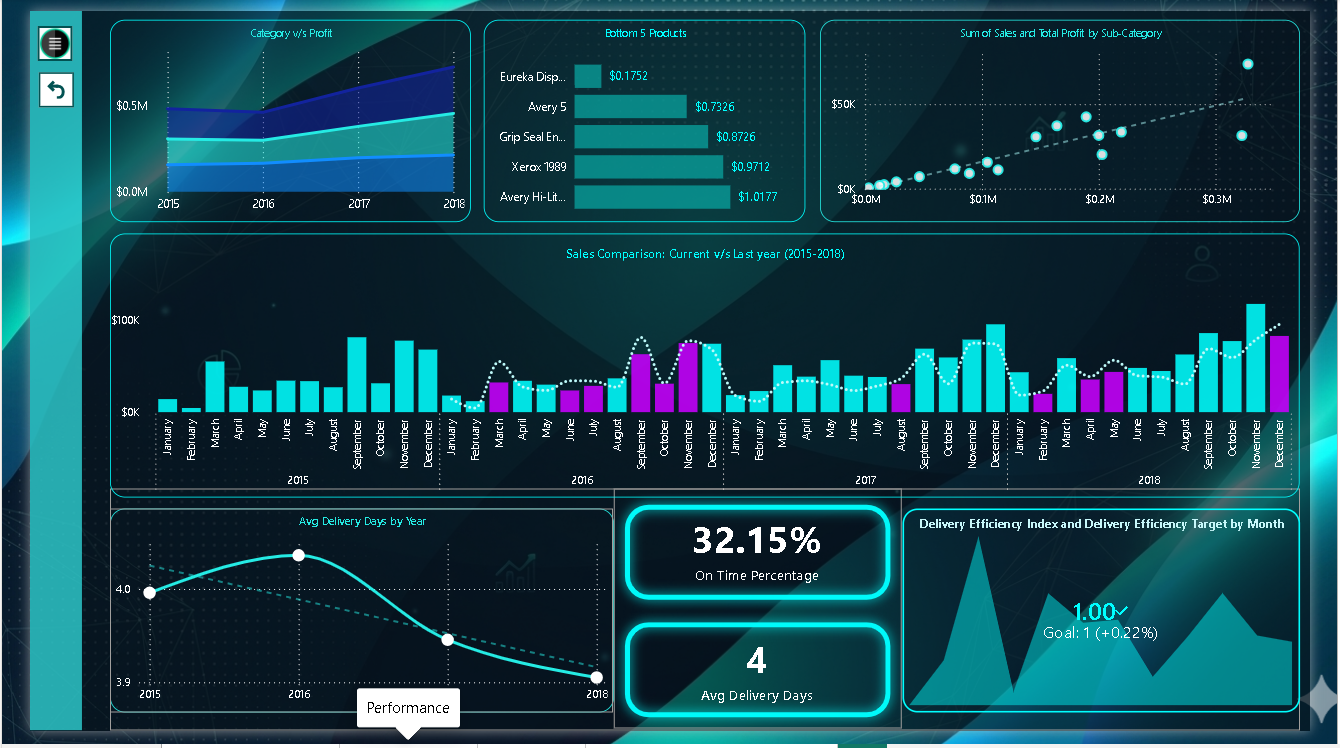

The page's visual inventory and layout, read from the dashboard file:
{"tool":"powerbi","page":{"name":"Performance ","canvas":[1280,720],"ordinal":1},"visuals":[{"type":"shape","title":"Short Menu","box":[0,0,51.9,719.5],"z":0,"group":"g4"},{"type":"clusteredBarChart","title":"Bottom 5 Products","fields":{"Category":["DimProduct.Product Name"],"Y":["_Measures.Total Profit"]},"box":[454.8,9.1,321.6,202.7],"z":0,"group":"g2"},{"type":"group","id":"g1","title":"Bottom","box":[80.5,477.9,1189.6,241.6],"z":0},{"type":"cardVisual","title":"On Time % card","fields":{"Data":["_Measures.On Time %"]},"box":[621.1,477.9,214.9,120.3],"z":0,"group":"g3"},{"type":"lineChart","fields":{"Category":["DimDate.Date Hierarchy.Year","DimDate.Date Hierarchy.Month Name"],"Y":["_Measures.Avg Delivery Days"]},"box":[80.5,498.2,504.1,204.1],"z":0,"group":"g1"},{"type":"stackedAreaChart","title":"Category v/s Profit","fields":{"Category":["DimDate.Date Hierarchy.Year","DimDate.Date Hierarchy.Month Name"],"Series":["DimProduct.Category"],"Y":["Sum(FactSales.Sales)"]},"box":[80.5,9.1,360.8,202.7],"z":1000,"group":"g2"},{"type":"actionButton","title":"Menu Button","box":[7.8,15.6,35,35],"z":1000,"group":"g4"},{"type":"lineClusteredColumnComboChart","title":"Sales Comparison: Current v/s Last year (2015-2018)","fields":{"Category":["DimDate.Date Hierarchy.Year","DimDate.Date Hierarchy.Month Name"],"Y":["_Measures.Total Sales"],"Y2":["_Measures.Sales LY"]},"box":[80.5,222.1,1189.6,263.6],"z":1000},{"type":"shape","title":"Holder","box":[584.6,483.3,287.8,117.6],"z":1000,"group":"g3"},{"type":"kpi","fields":{"Goal":["_Measures.Delivery Efficiency Target"],"Indicator":["_Measures.Efficiency Index"],"TrendLine":["DimDate.Month Name"]},"box":[872.4,498.2,397.3,204.1],"z":1000,"group":"g1"},{"type":"group","id":"g2","title":"Top","box":[80.5,9.1,1189.6,202.6],"z":2000},{"type":"scatterChart","fields":{"Category":["DimProduct.Sub-Category"],"X":["Sum(FactSales.Sales)"],"Y":["_Measures.Total Profit"]},"box":[790,9.1,479.7,202.7],"z":2000,"group":"g2"},{"type":"actionButton","title":"Reset Button","box":[9.1,61,35.1,35.1],"z":2000,"group":"g4"},{"type":"group","id":"g3","title":"Numbers","box":[584.6,477.9,287.8,240.5],"z":2000,"group":"g1"},{"type":"shape","title":"Holder","box":[584.6,600.9,287.8,117.6],"z":2000,"group":"g3"},{"type":"group","id":"g4","title":"Small Navbar","box":[0,0,51.9,719.5],"z":3000},{"type":"cardVisual","title":"Avg Delivery Days Card","fields":{"Data":["_Measures.Avg Delivery Days"]},"box":[621.1,598.2,214.9,120.3],"z":3000,"group":"g3"}]}

Visuals, with their boxes in screenshot pixels (x1, y1, x2, y2), scaled from the page's 1280x720 canvas onto the 1340x748 screenshot:
"Short Menu" shape: detection(0, 0, 54, 747)
"Bottom 5 Products" clusteredBarChart: detection(476, 9, 813, 220)
"Bottom" group: detection(84, 496, 1330, 747)
"On Time % card" cardVisual: detection(650, 496, 875, 621)
lineChart - DimDate.Date Hierarchy.Year x DimDate.Date Hierarchy.Month Name: detection(84, 518, 612, 730)
"Category v/s Profit" stackedAreaChart: detection(84, 9, 462, 220)
"Menu Button" actionButton: detection(8, 16, 45, 53)
"Sales Comparison: Current v/s Last year (2015-2018)" lineClusteredColumnComboChart: detection(84, 231, 1330, 505)
"Holder" shape: detection(612, 502, 913, 624)
kpi - _Measures.Delivery Efficiency Target x _Measures.Efficiency Index: detection(913, 518, 1329, 730)
"Top" group: detection(84, 9, 1330, 220)
scatterChart - DimProduct.Sub-Category x Sum(FactSales.Sales): detection(827, 9, 1329, 220)
"Reset Button" actionButton: detection(10, 63, 46, 100)
"Numbers" group: detection(612, 496, 913, 746)
"Holder" shape: detection(612, 624, 913, 746)
"Small Navbar" group: detection(0, 0, 54, 747)
"Avg Delivery Days Card" cardVisual: detection(650, 621, 875, 746)
